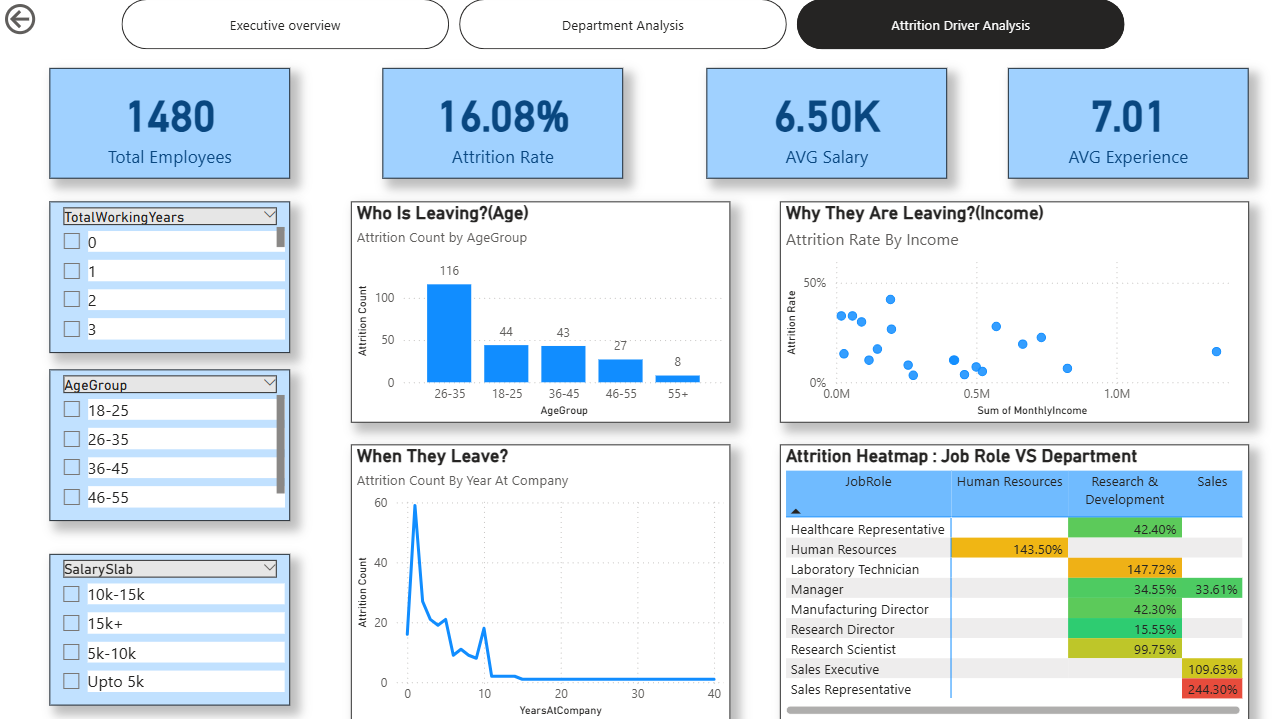

What the dashboard file says about the page in this screenshot:
{"tool":"powerbi","page":{"name":"Attrition Driver Analysis","canvas":[1280,720],"ordinal":2},"visuals":[{"type":"card","fields":{"Values":["Dim_Education.Attrition Rate"]},"box":[380.5,68,239.6,110.1],"z":0},{"type":"card","fields":{"Values":["Dim_Education.Total Employees"]},"box":[48.6,68,239.6,110.1],"z":1000},{"type":"card","fields":{"Values":["Dim_Education.AVG Salary"]},"box":[702.7,68,239.6,110.1],"z":2000},{"type":"card","fields":{"Values":["Dim_Education.AVG Experience"]},"box":[1002.3,68,239.6,110.1],"z":3000},{"type":"columnChart","title":"Who Is Leaving?(Age)","fields":{"Category":["Dim_Employee.AgeGroup"],"Y":["Dim_Education.Attrition Count"]},"box":[349.8,200.8,377.3,220.2],"z":4000},{"type":"lineChart","title":"When They Leave?","fields":{"Category":["Fact_Employee.YearsAtCompany"],"Y":["Dim_Education.Attrition Count"]},"box":[349.8,443.7,377.3,276.9],"z":5000},{"type":"scatterChart","title":"Why They Are Leaving?(Income)","fields":{"X":["Sum(Fact_Employee.MonthlyIncome)"],"Y":["Dim_Education.Attrition Rate"],"Category":["Dim_Job.JobLevel","Dim_Job.JobRole"]},"box":[775.6,200.8,466.3,220.2],"z":6000},{"type":"pivotTable","title":"Attrition Heatmap : Job Role VS Department ","fields":{"Rows":["Dim_Job.JobRole"],"Columns":["Dim_Job.Department"],"Values":["Dim_Education.Attrition Rate"]},"box":[775.6,443.7,466.3,275.3],"z":7000},{"type":"slicer","fields":{"Values":["Dim_Salary.SalarySlab"]},"box":[48.6,552.2,239.6,150.6],"z":10000},{"type":"slicer","fields":{"Values":["Dim_Employee.AgeGroup"]},"box":[48.6,369.2,239.6,150.6],"z":13000},{"type":"slicer","fields":{"Values":["Fact_Employee.TotalWorkingYears"]},"box":[48.6,200.8,239.6,150.6],"z":14000},{"type":"pageNavigator","box":[121.4,0,1000.7,50.2],"z":15000},{"type":"actionButton","box":[0,0,100,40],"z":16000}]}

Visuals, with their boxes in screenshot pixels (x1, y1, x2, y2), scaled from the page's 1280x720 canvas onto the 1284x719 screenshot:
card - Dim_Education.Attrition Rate: box(382, 68, 622, 178)
card - Dim_Education.Total Employees: box(49, 68, 289, 178)
card - Dim_Education.AVG Salary: box(705, 68, 945, 178)
card - Dim_Education.AVG Experience: box(1005, 68, 1246, 178)
"Who Is Leaving?(Age)" columnChart: box(351, 201, 729, 420)
"When They Leave?" lineChart: box(351, 443, 729, 718)
"Why They Are Leaving?(Income)" scatterChart: box(778, 201, 1246, 420)
"Attrition Heatmap : Job Role VS Department " pivotTable: box(778, 443, 1246, 718)
slicer - Dim_Salary.SalarySlab: box(49, 551, 289, 702)
slicer - Dim_Employee.AgeGroup: box(49, 369, 289, 519)
slicer - Fact_Employee.TotalWorkingYears: box(49, 201, 289, 351)
pageNavigator: box(122, 0, 1126, 50)
actionButton: box(0, 0, 100, 40)
